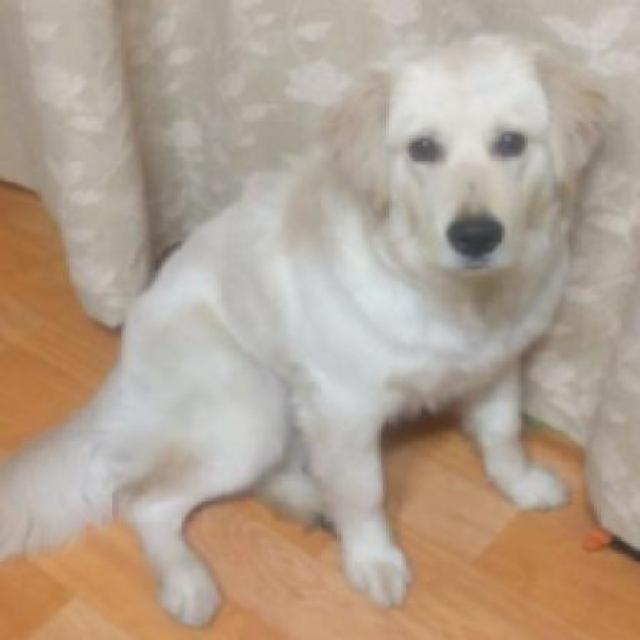Dog: (0, 32, 614, 638)
